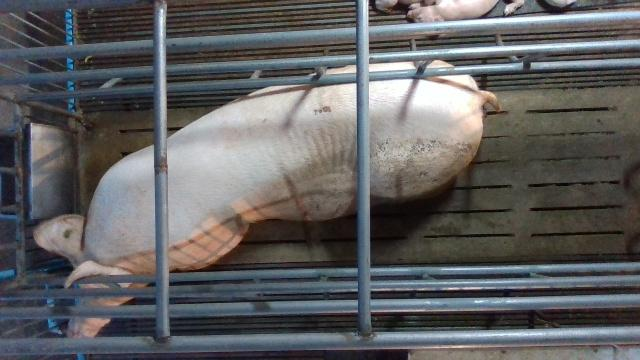piglet: (407, 0, 505, 23)
sow-sit: (29, 60, 504, 336)
